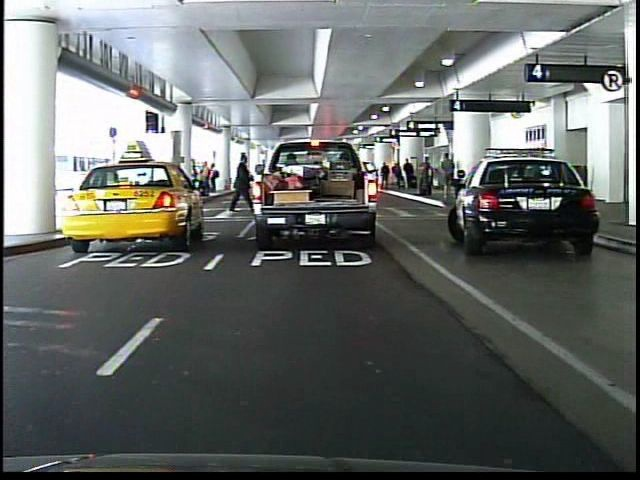person: (224, 153, 251, 214), (289, 145, 313, 204)
